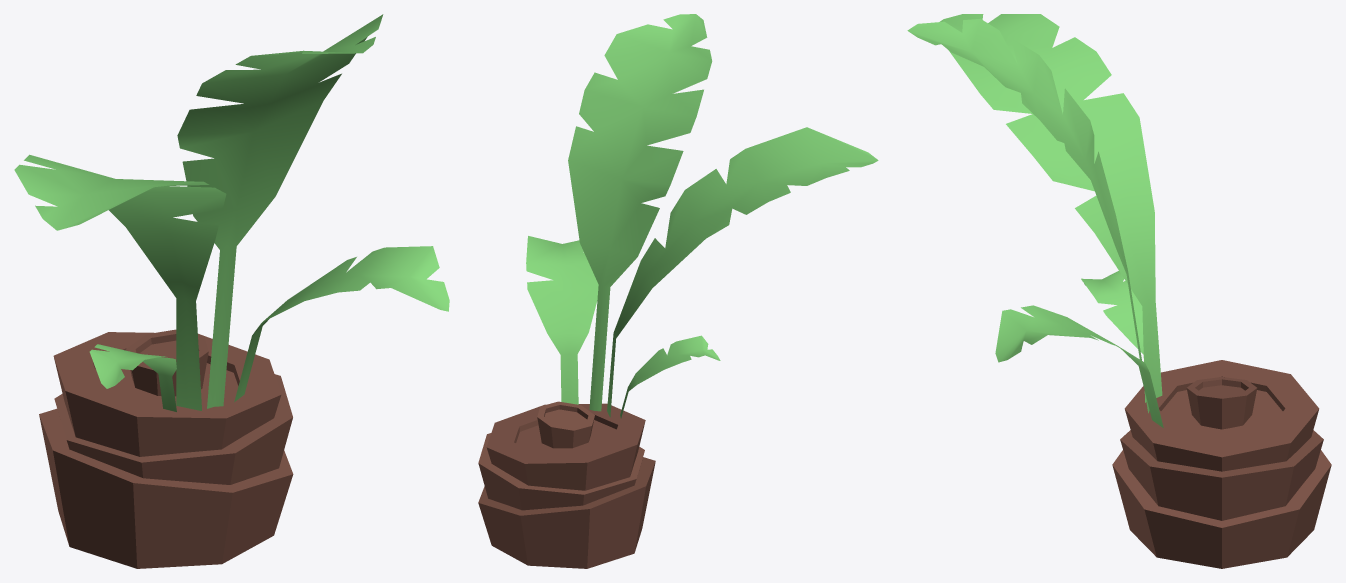
Rendered from Arbusto2.fbx.
3 views of the same model, side by side, from view 1: azimuth 30°, elevation 25°; view 2: azimuth 150°, elevation 25°; view 3: azimuth 270°, elevation 25° (orthographic). The views are drawn at different scales.
Parts seen in each view (by area): view 1: Arbusto2; view 2: Arbusto2; view 3: Arbusto2.
Boxes of the visible parts, left/top/right/bottom form: Arbusto2: left=14, top=14, right=449, bottom=568; Arbusto2: left=478, top=14, right=878, bottom=568; Arbusto2: left=907, top=14, right=1331, bottom=568.
Size of the model in its own units: 98.82 by 130 by 99.54.
